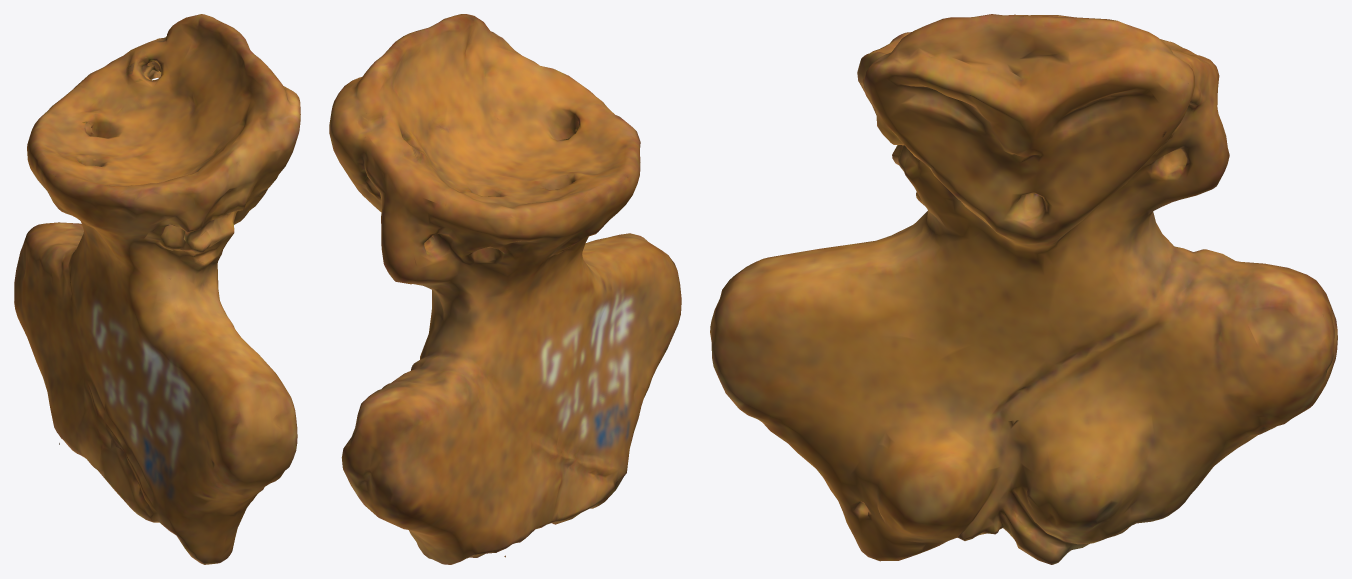
3 renders of one model, left to right at view 1: azimuth 30°, elevation 25°; view 2: azimuth 150°, elevation 25°; view 3: azimuth 270°, elevation 25°, orthographic. The views are drawn at different scales.
Visible parts, largest first — view 1: TK0020_low; view 2: TK0020_low; view 3: TK0020_low.
Part boxes in pixels (box(x1,y1,x2,y2)): TK0020_low: box(14, 14, 300, 564); TK0020_low: box(329, 14, 681, 564); TK0020_low: box(710, 14, 1337, 564).
Bounding box in the file's own units: 26.1 × 50.91 × 49.18.
1 material, 1 textured.
